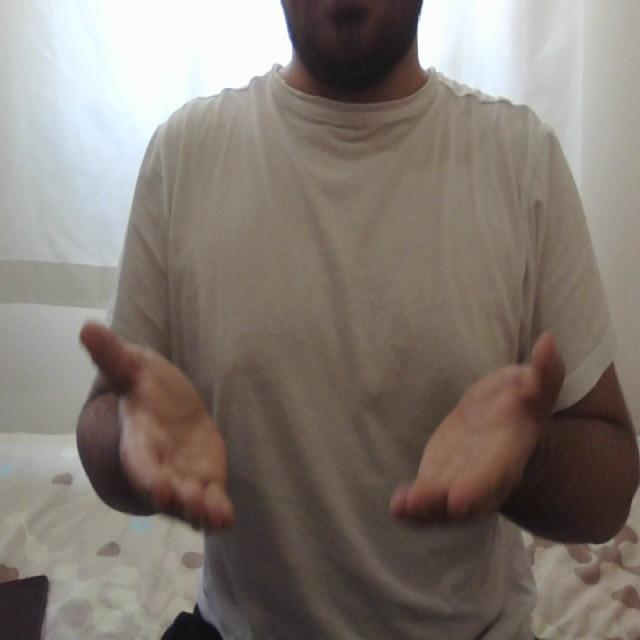Evet: (76, 315, 574, 540)
